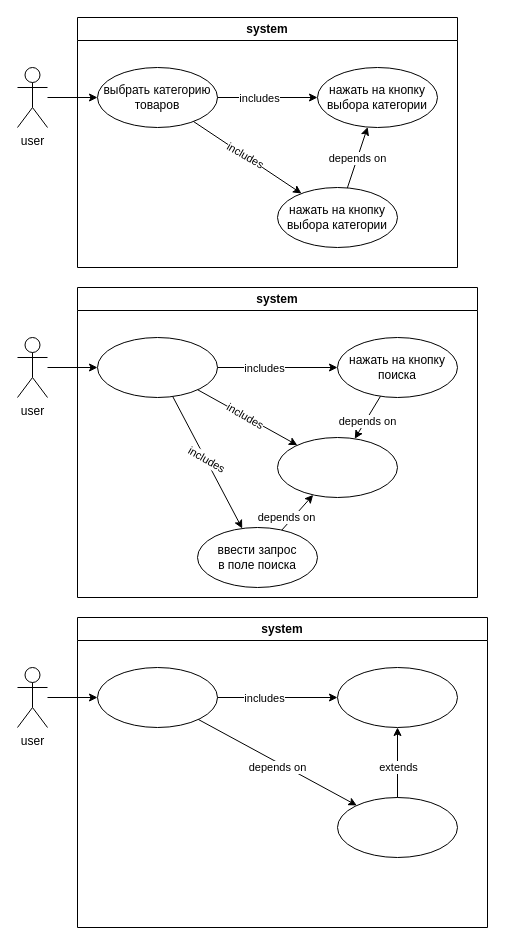
Image size: 505x945. Some labels were removed from this diagram. Here are the shapes that lost their labels. From the top down, the centre of each, then its label:
At point (157, 367): "найти товар".
At point (337, 467): "нажать на поле поиска".
At point (157, 697): "просмотр корзины".
At point (397, 697): "нажать на кнопку корзины".
At point (397, 827): "войти в аккаунт".
